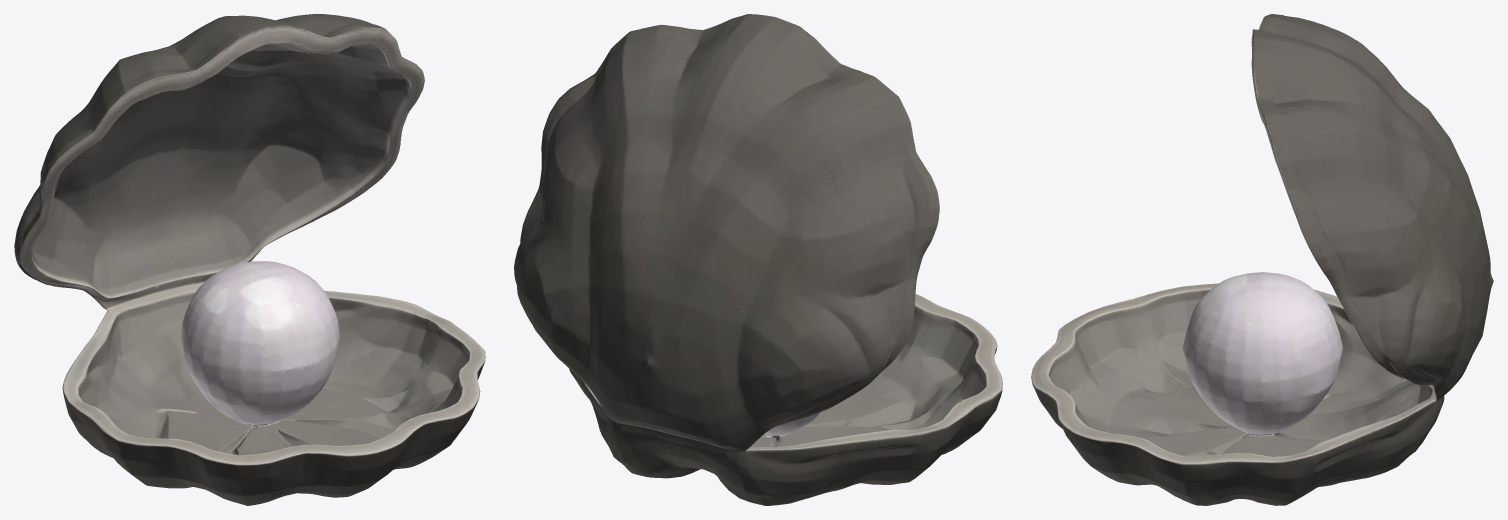
Rendered from pearls.glb.
3 views of the same model, side by side, from view 1: azimuth 30°, elevation 25°; view 2: azimuth 150°, elevation 25°; view 3: azimuth 270°, elevation 25° (orthographic). The views are drawn at different scales.
Bounding box in the file's own units: 1.77 × 1.87 × 1.9.
Materials: 1 (1 with a texture image).
